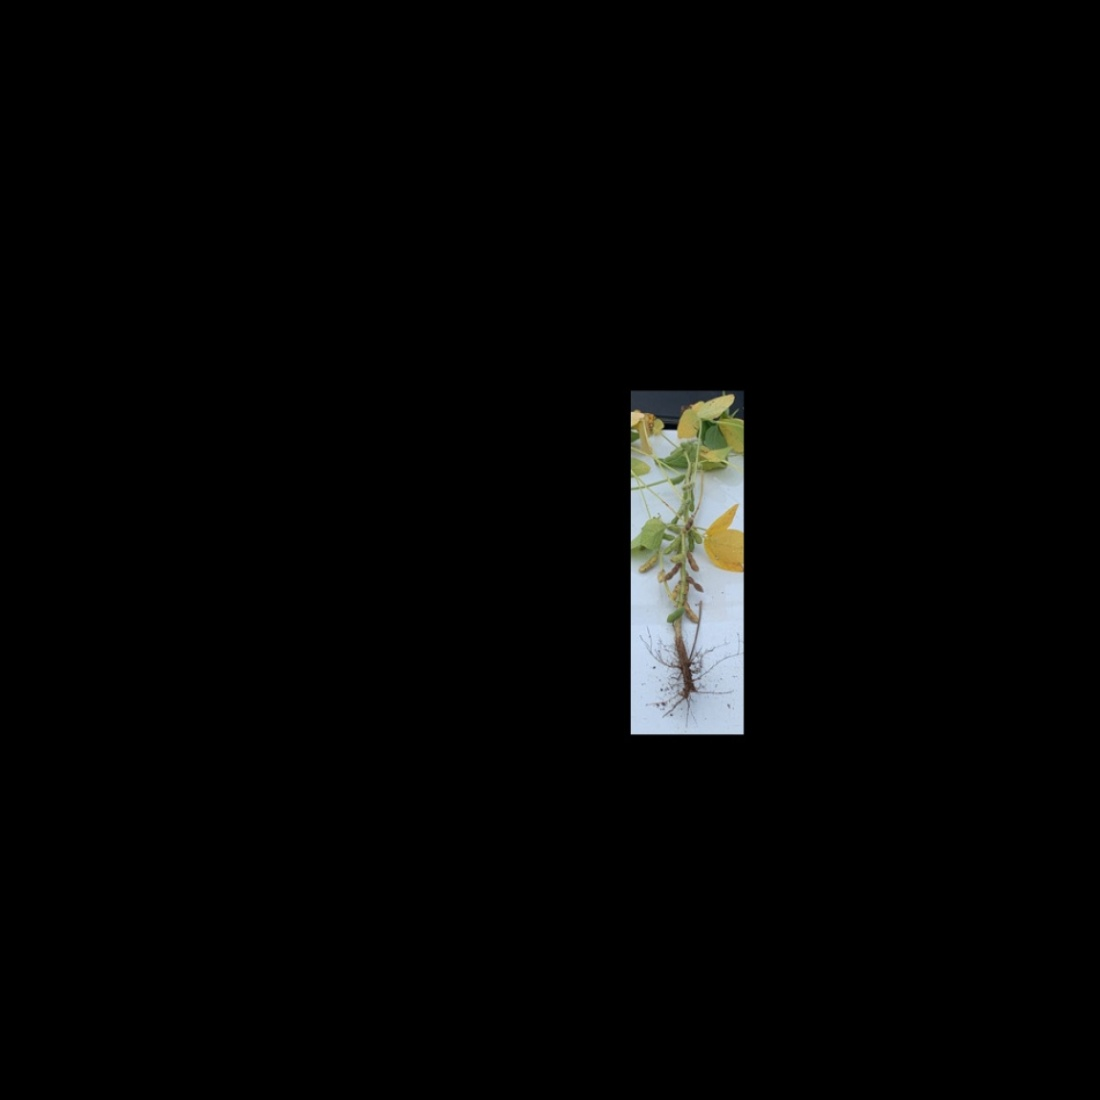pod: (636, 551, 661, 574), (659, 533, 680, 556), (661, 560, 682, 583), (685, 546, 701, 575), (683, 600, 701, 626), (685, 574, 704, 595), (663, 607, 684, 624)
soy: (635, 392, 739, 706)
